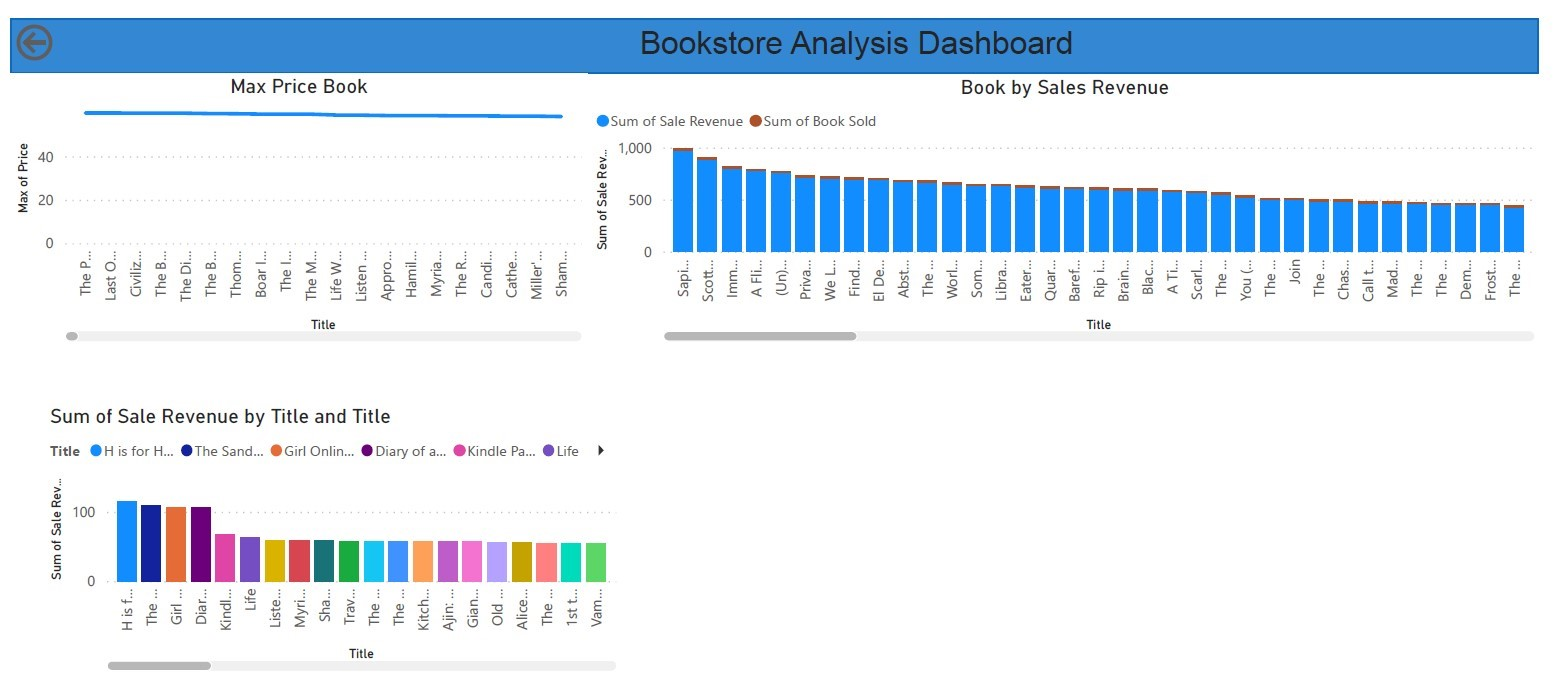

The page's visual inventory and layout, read from the dashboard file:
{"tool":"powerbi","page":{"name":"Analysis Pt 2","canvas":[1280,720],"ordinal":1},"visuals":[{"type":"shape","box":[0,0,1279.9,46.5],"z":0},{"type":"textbox","box":[511.9,1.4,393.5,45.1],"z":1000},{"type":"lineChart","title":"Max Price Book ","fields":{"Category":["bookstore.Title"],"Y":["Max(bookstore.Price)"]},"box":[0,46.5,483.2,228.2],"z":2000},{"type":"actionButton","box":[0,0,100,40],"z":3000},{"type":"columnChart","title":"Book by Sales Revenue","fields":{"Category":["bookstore.Title"],"Y":["Sum(bookstore.Sale Revenue)","Sum(bookstore.Book Sold )"]},"box":[485.2,46.5,795.4,228.5],"z":4000},{"type":"columnChart","fields":{"Category":["bookstore.Title"],"Y":["Sum(bookstore.Sale Revenue)"],"Series":["bookstore.Title"]},"box":[28.2,323,483.7,228.5],"z":5000}]}

Visuals, with their boxes on the page's 1280x720 design canvas (x1, y1, x2, y2). These are canvas units, not pixel positions in the 1565x693 screenshot, which may show the page scaled, cropped or inside an application window:
shape: bbox=(0, 0, 1280, 46)
textbox: bbox=(512, 1, 905, 46)
"Max Price Book " lineChart: bbox=(0, 46, 483, 275)
actionButton: bbox=(0, 0, 100, 40)
"Book by Sales Revenue" columnChart: bbox=(485, 46, 1281, 275)
columnChart - bookstore.Title x Sum(bookstore.Sale Revenue): bbox=(28, 323, 512, 552)
